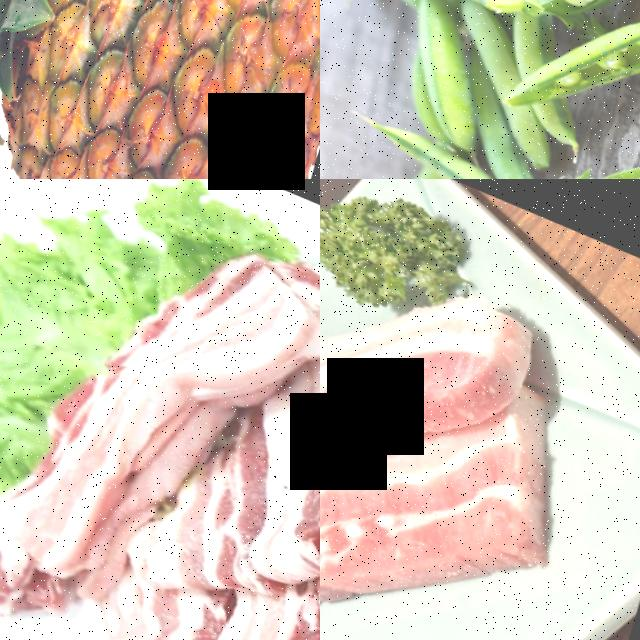broccoli: (320, 179, 469, 325)
pineapple: (0, 0, 320, 179)
pork belly: (320, 379, 563, 616), (138, 209, 320, 430), (133, 423, 306, 613), (0, 418, 141, 640), (386, 267, 541, 442), (61, 552, 320, 640), (320, 308, 404, 468)
